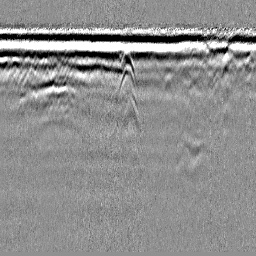cavity: (116, 52, 138, 98)
